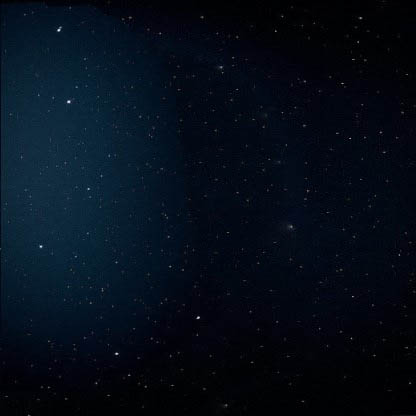Ursa Major: (25, 235, 48, 262), (50, 15, 71, 41), (79, 178, 95, 204), (188, 307, 206, 327), (105, 344, 124, 362), (62, 91, 77, 111)
